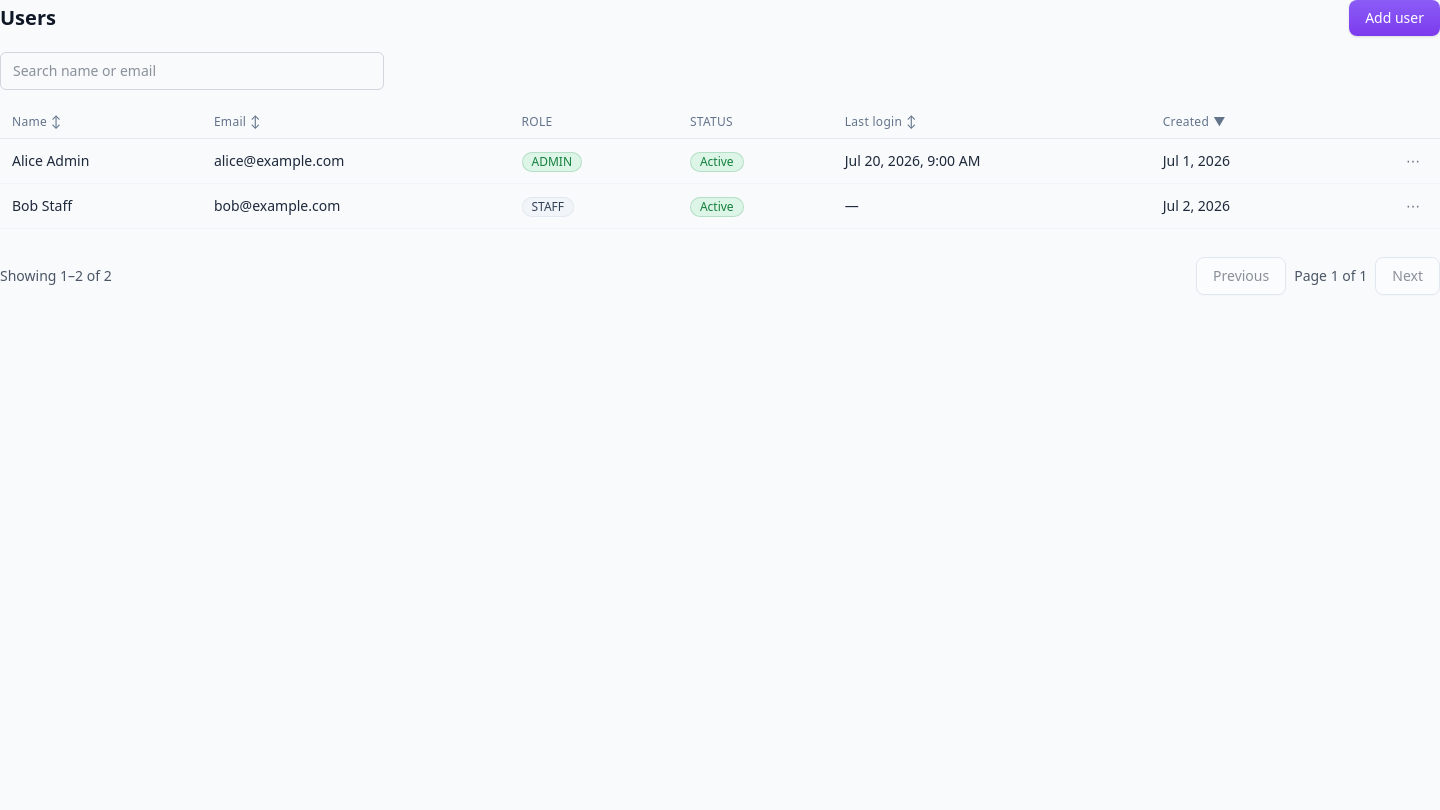
Users page (UC-04) › maps LAST_ADMIN to an inline conflict on edit (BR-30)
Click the button named "row actions".
click(1413, 161)  # box top-left (1398, 147), bottom-right (1428, 175)
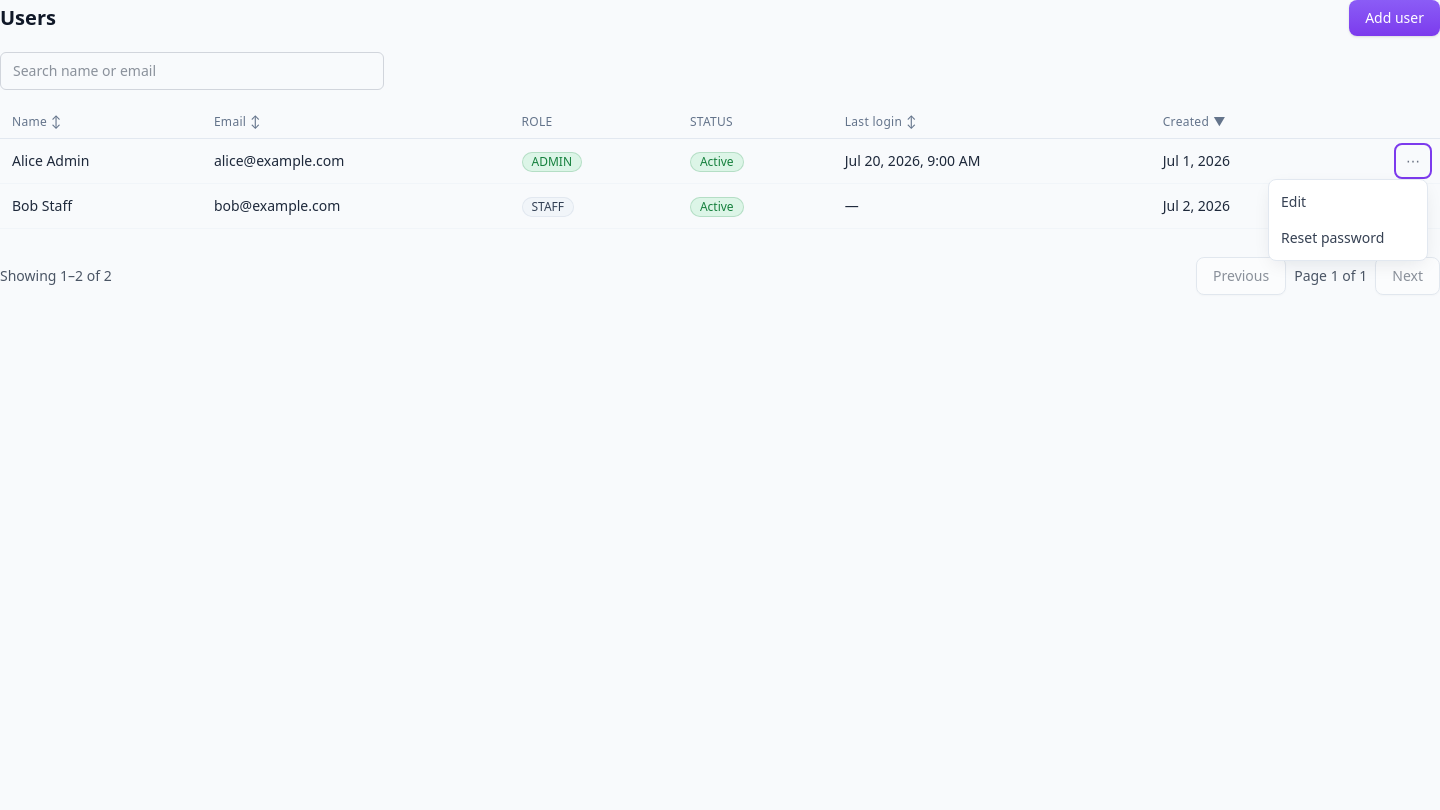
Click the menu item "Edit".
click(1348, 202)  # box top-left (1269, 184), bottom-right (1427, 220)
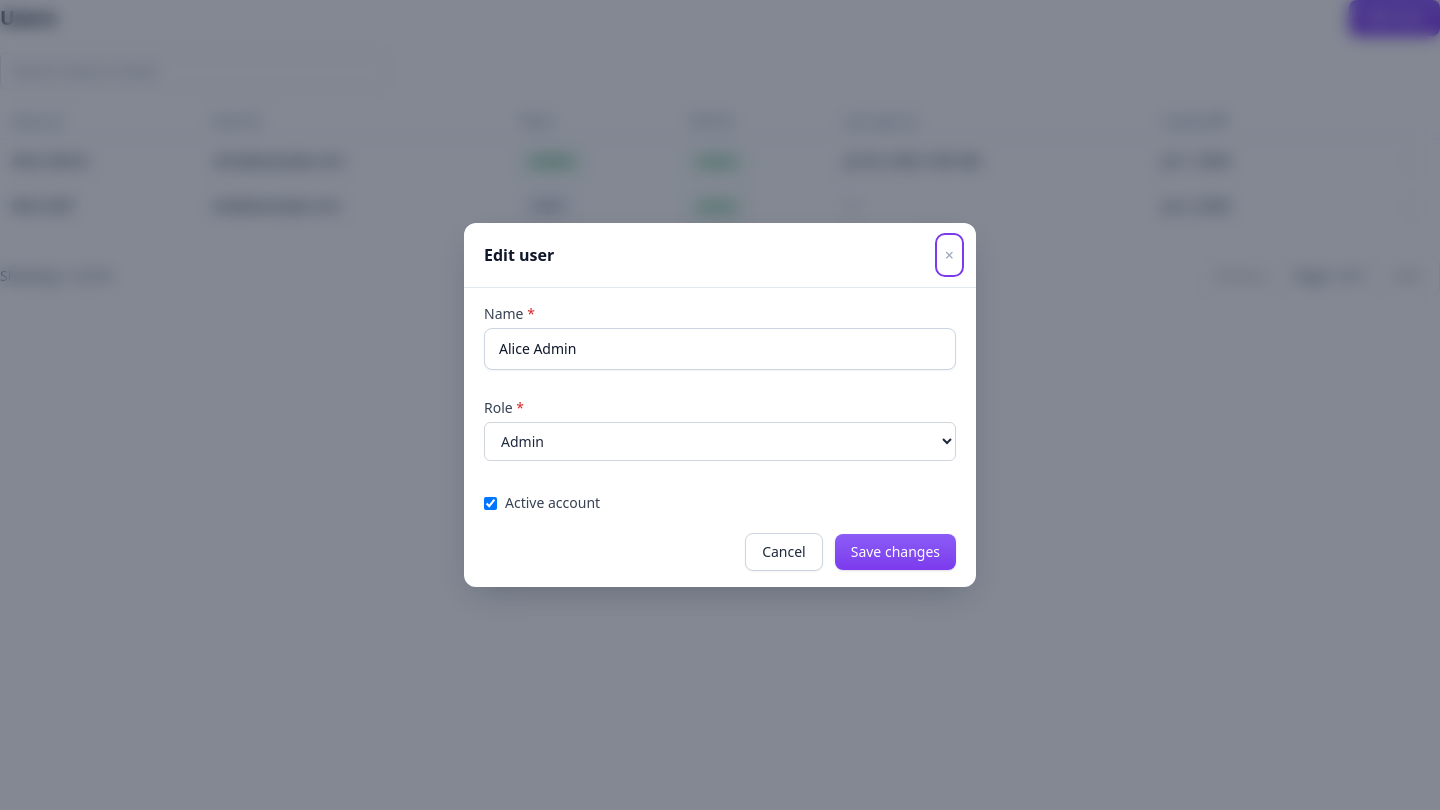
Demote the sole admin
Select "Staff" in the dropdown labelled "Role *" at (720, 442), box top-left (484, 422), bottom-right (956, 461)
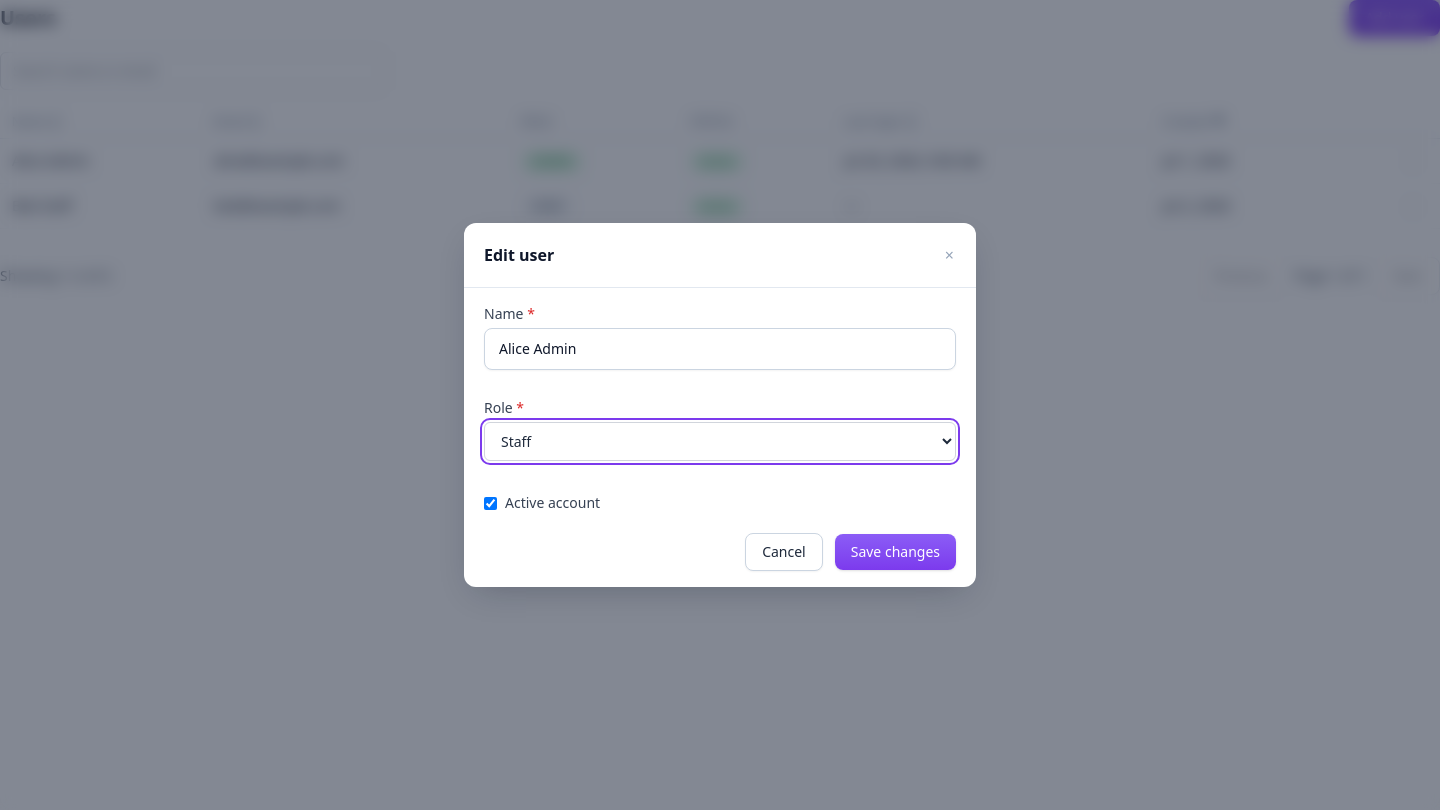
Click the button "Save changes".
click(895, 552)  # box top-left (835, 534), bottom-right (956, 570)
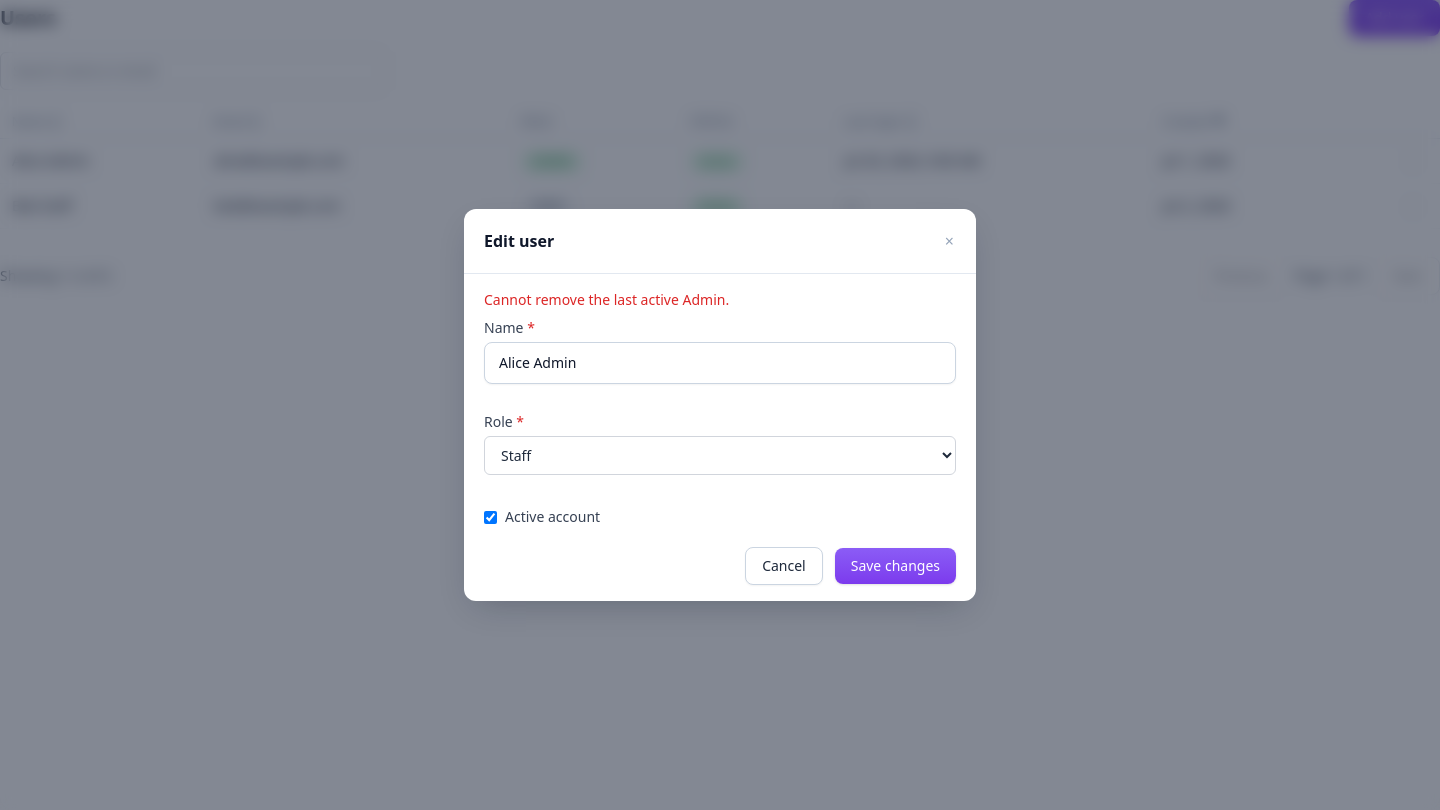
Check: the text "Cannot remove the last active Admin." is shown, box top-left (484, 290), bottom-right (729, 309)
